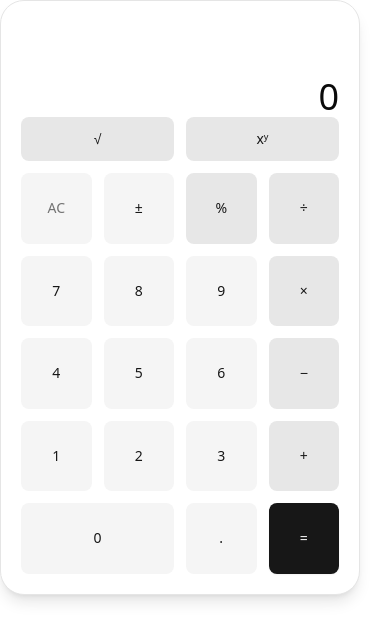
Calculator › toggles the entry sign without a request
Click the button "7".
click(56, 291)  # box x1=21 y1=256 x2=92 y2=326
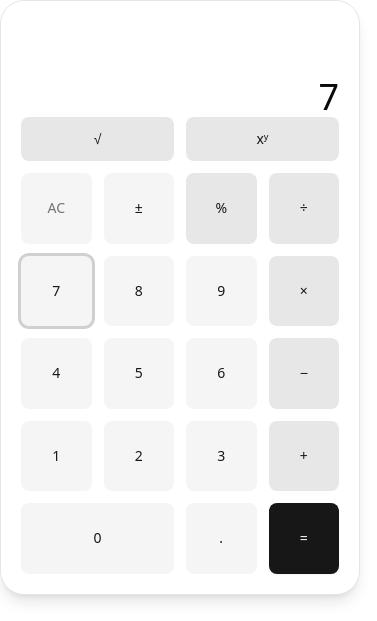
Click the button named "change sign".
click(139, 208)  # box x1=104 y1=173 x2=174 y2=244
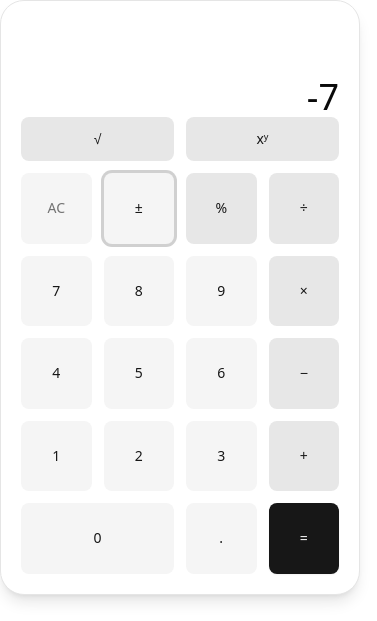
Expected: the text with test id "calculator-display" reads "-7", x1=307 y1=72 x2=339 y2=121
